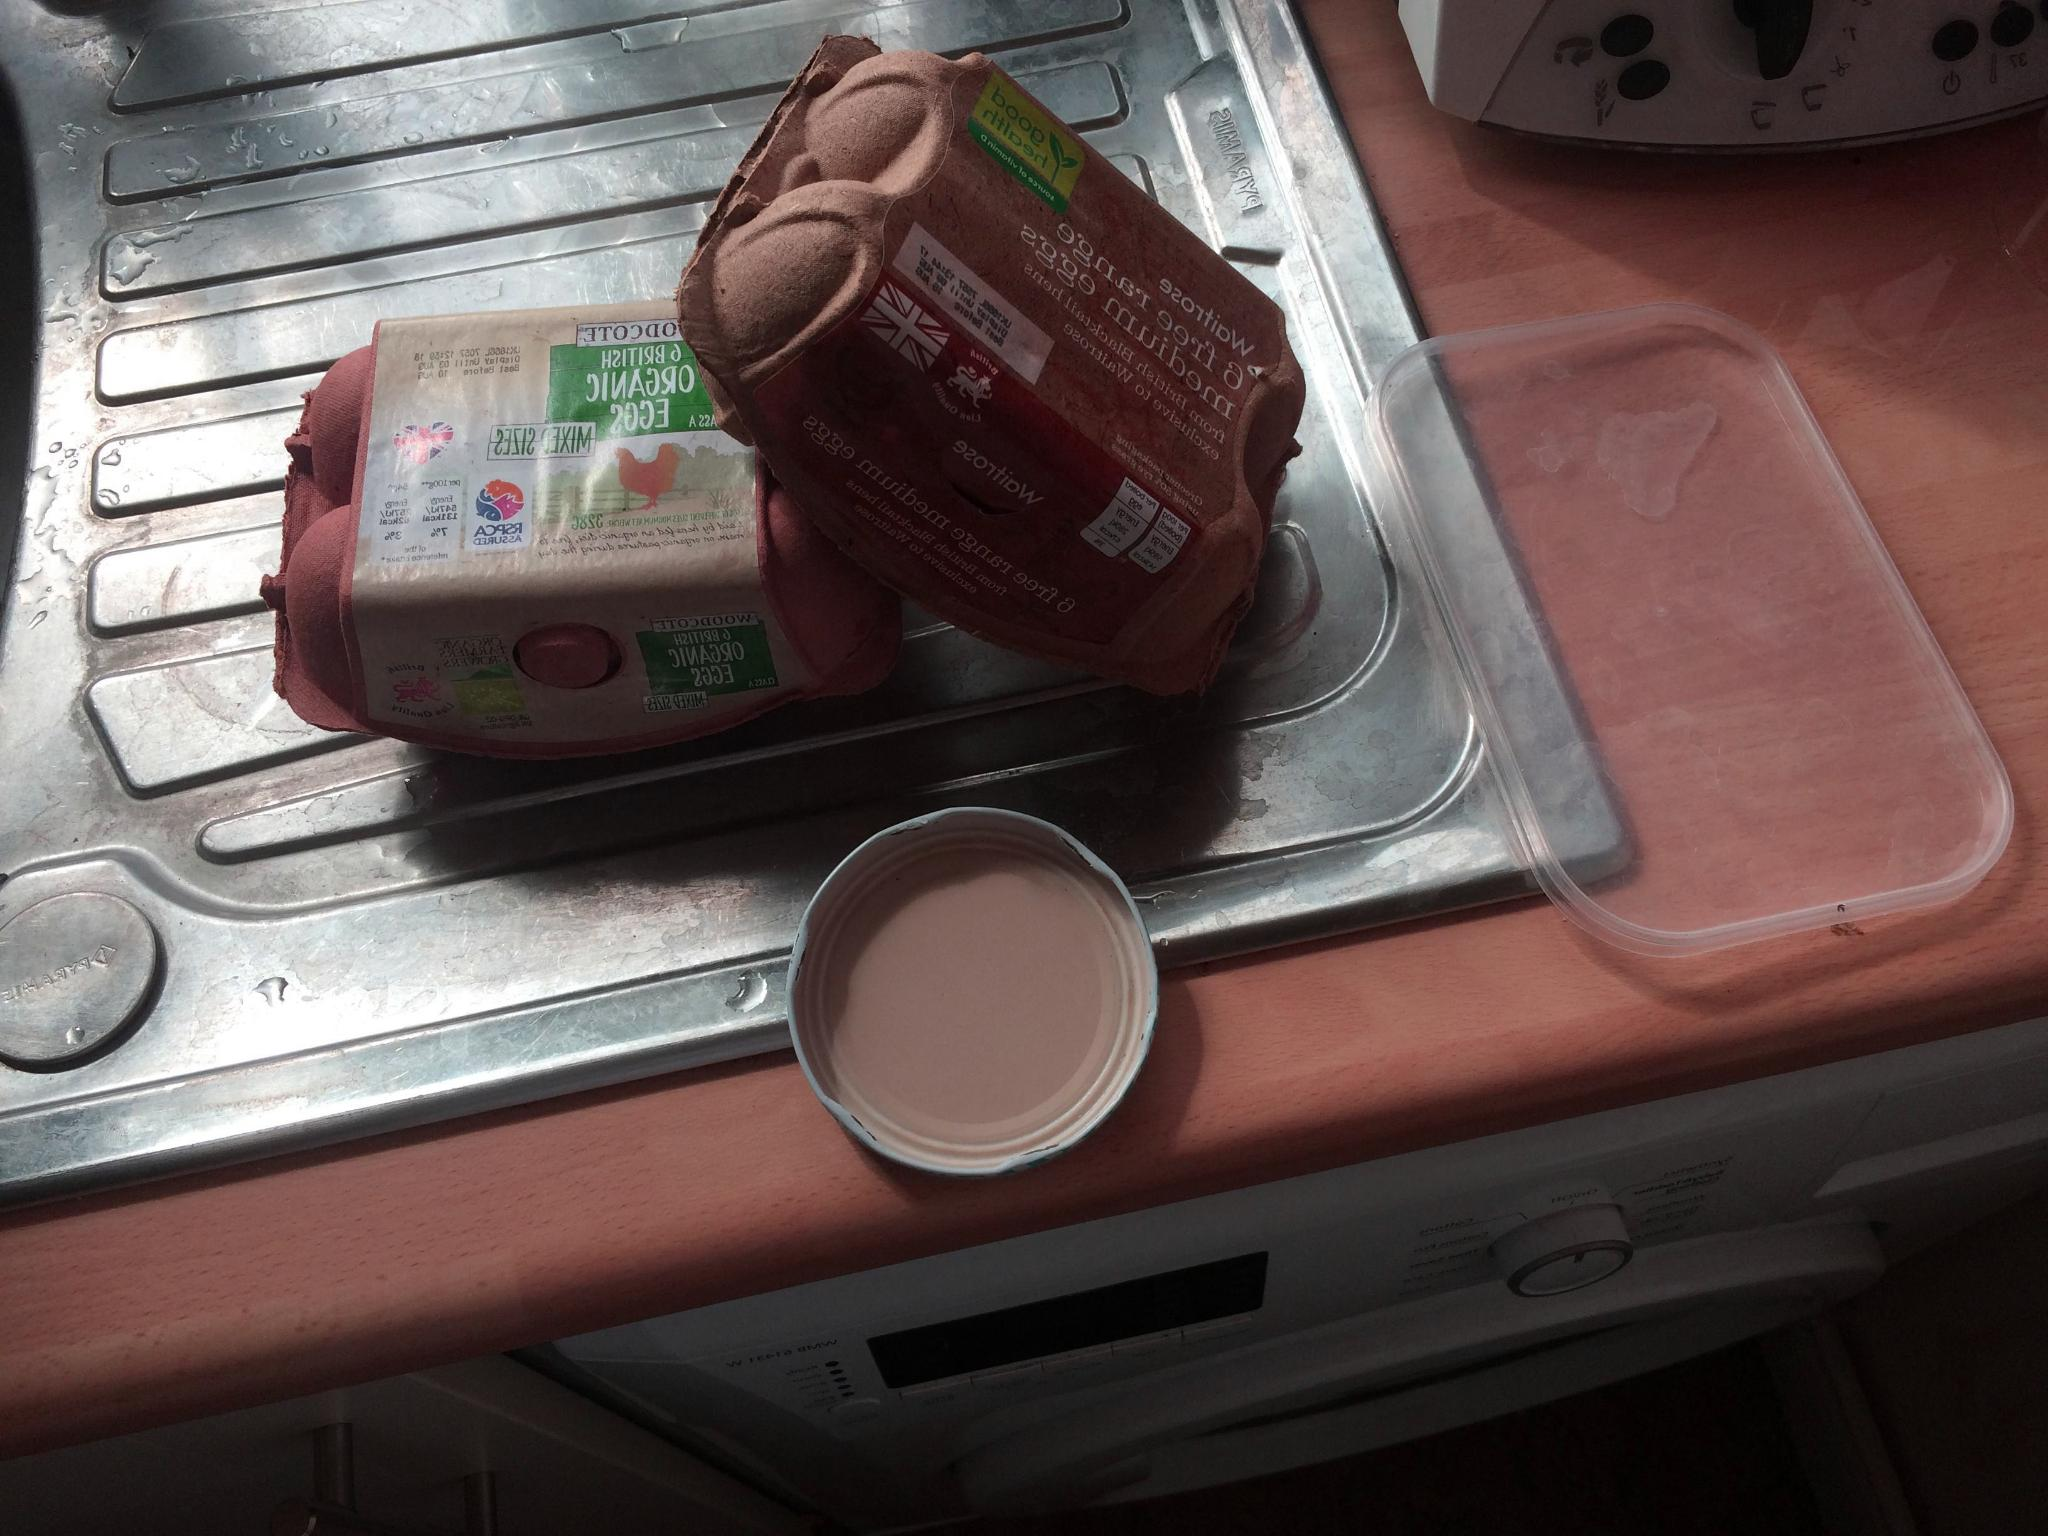Metal: (769, 797, 1184, 1183)
Plastic: (1356, 302, 2021, 984)
